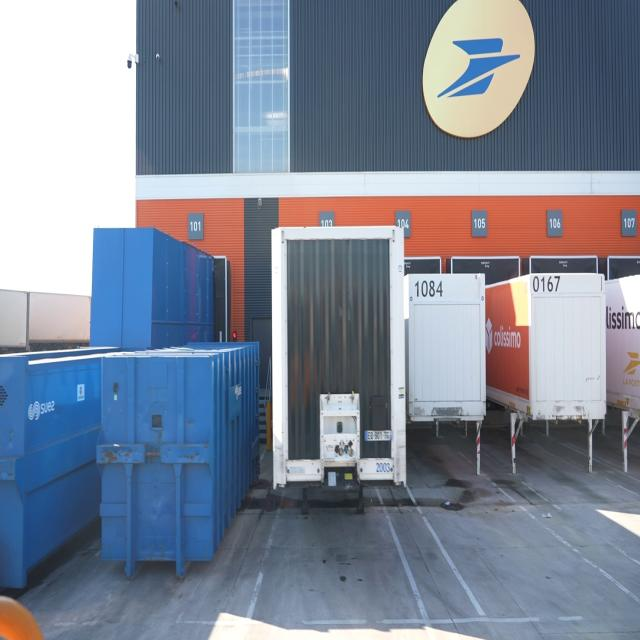Code: (413, 274, 444, 301), (530, 271, 561, 296)
